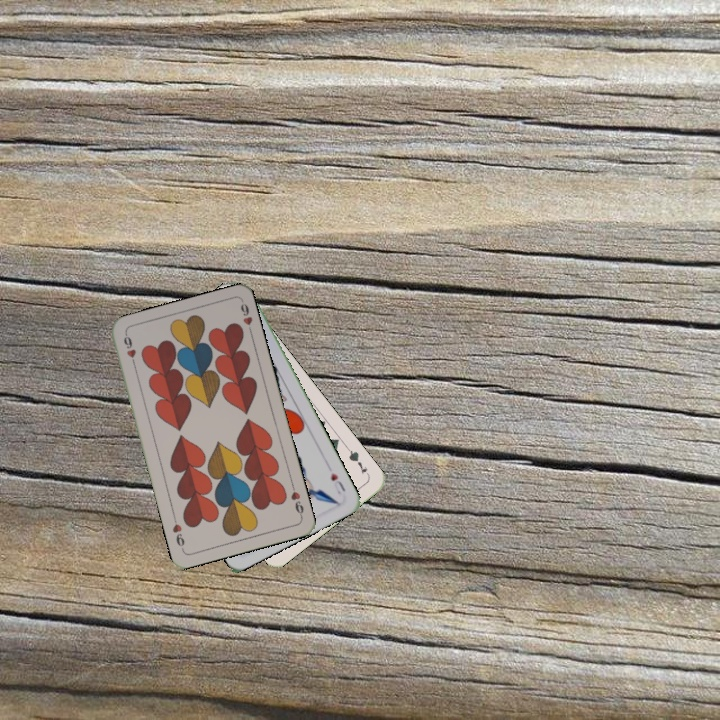G7: (343, 444, 372, 479)
H9: (287, 480, 306, 520), (120, 330, 139, 370)
HU: (327, 468, 348, 497)
